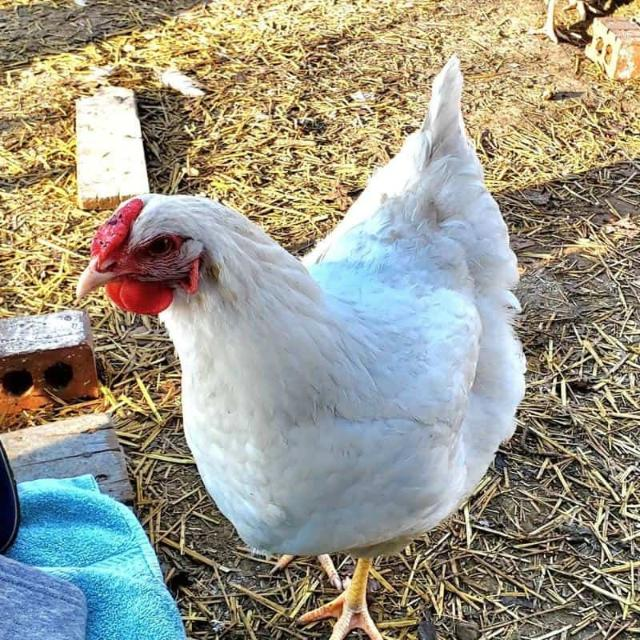Chicken: (74, 50, 528, 640)
